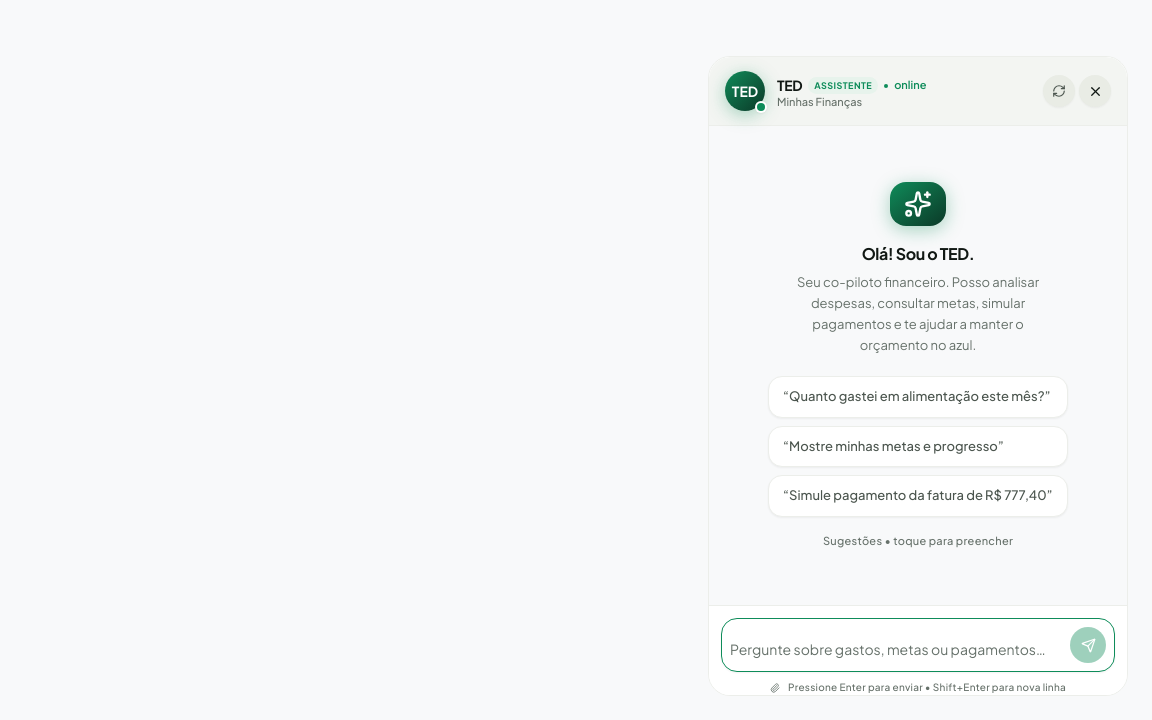
Test: TedChat undo proposal card (debt-undo-confirmation-ui) › confirm on the chat card decides via the RPC with the proposal id
The width and height of the screenshot is (1152, 720).
Type "desfaz o último" into the text box with placeholder "Pergunte sobre gastos, metas ou pagamentos…" at (897, 649), box [730,635,1064,663]
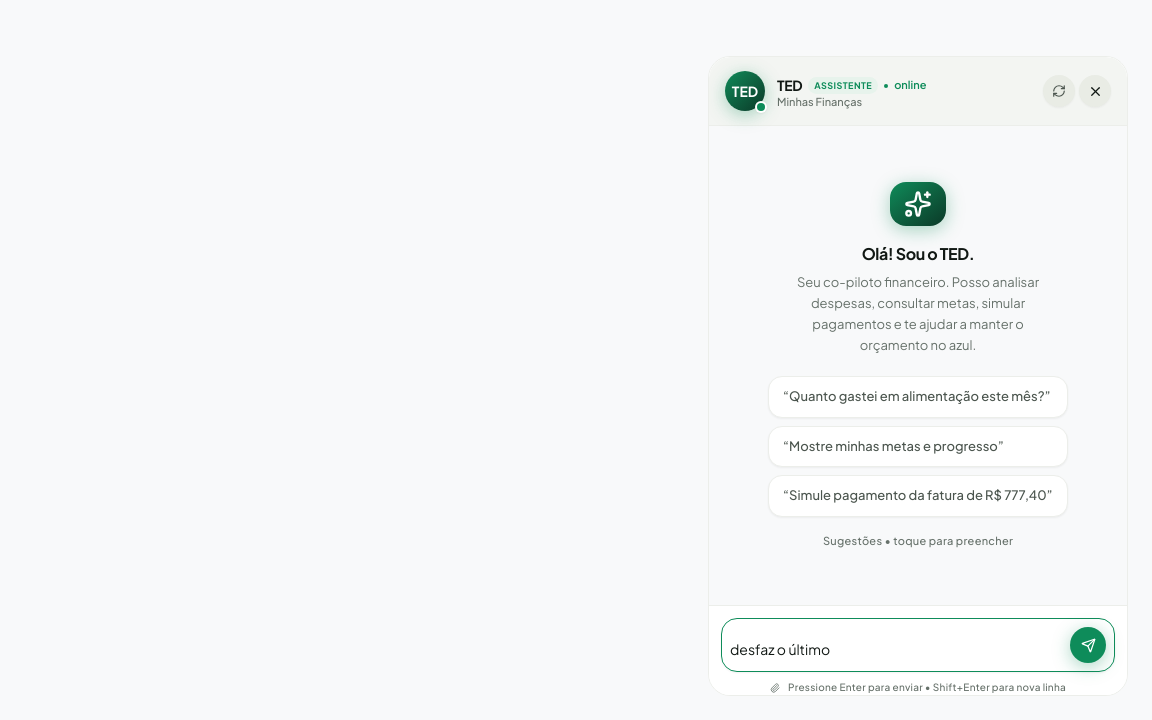
Click the button named "enviar mensagem" at (1088, 645), box [1070,627,1106,663]
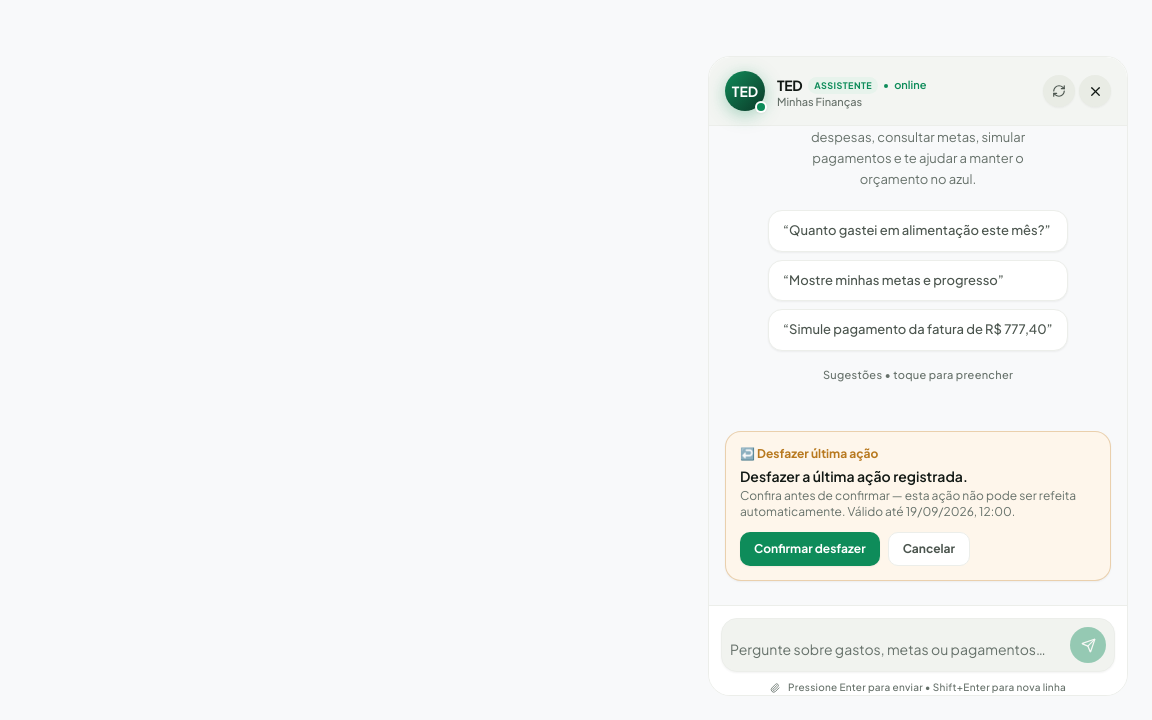
Click the button "Confirmar desfazer" at (810, 549), box [740,532,880,566]
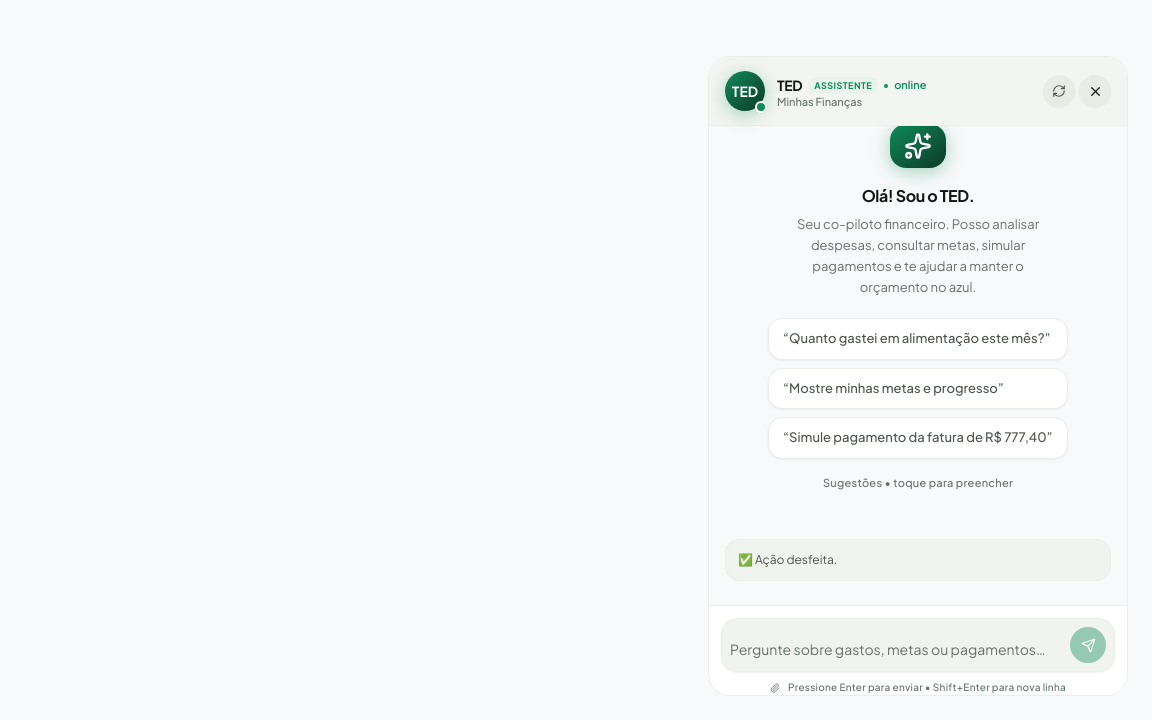
Check: the message "✅ Ação desfeita." is shown, box [725,539,1111,581]
